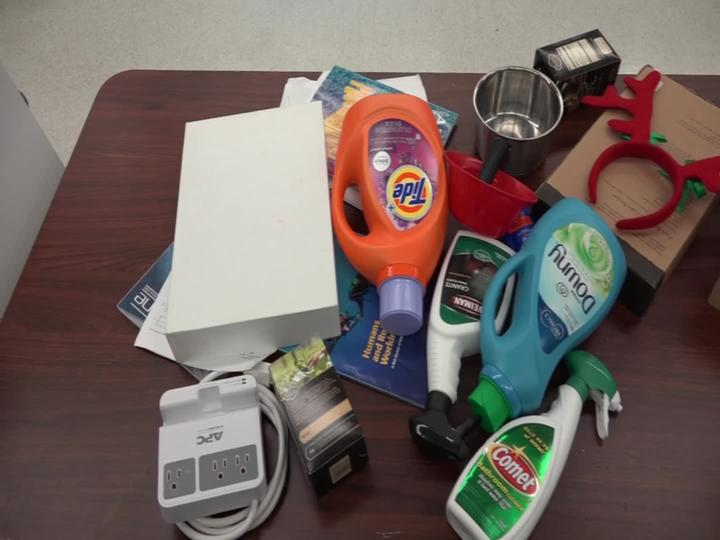downy: (450, 189, 639, 447)
